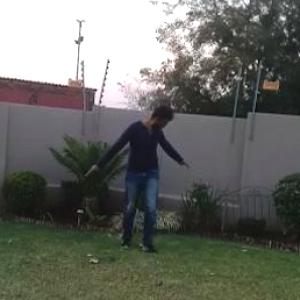land: (92, 91, 214, 267)
